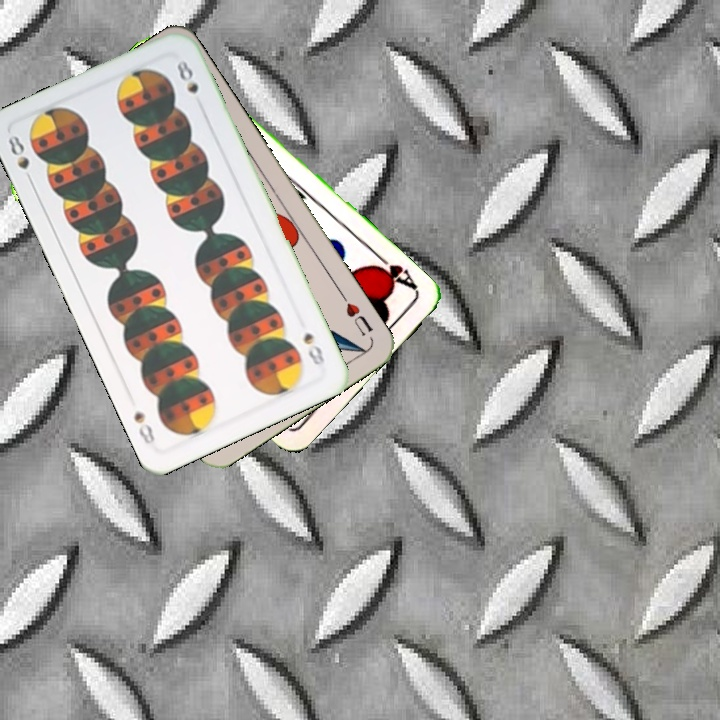HA: (367, 248, 420, 293)
HU: (336, 289, 376, 339)
S8: (4, 130, 36, 187), (299, 328, 327, 369)
